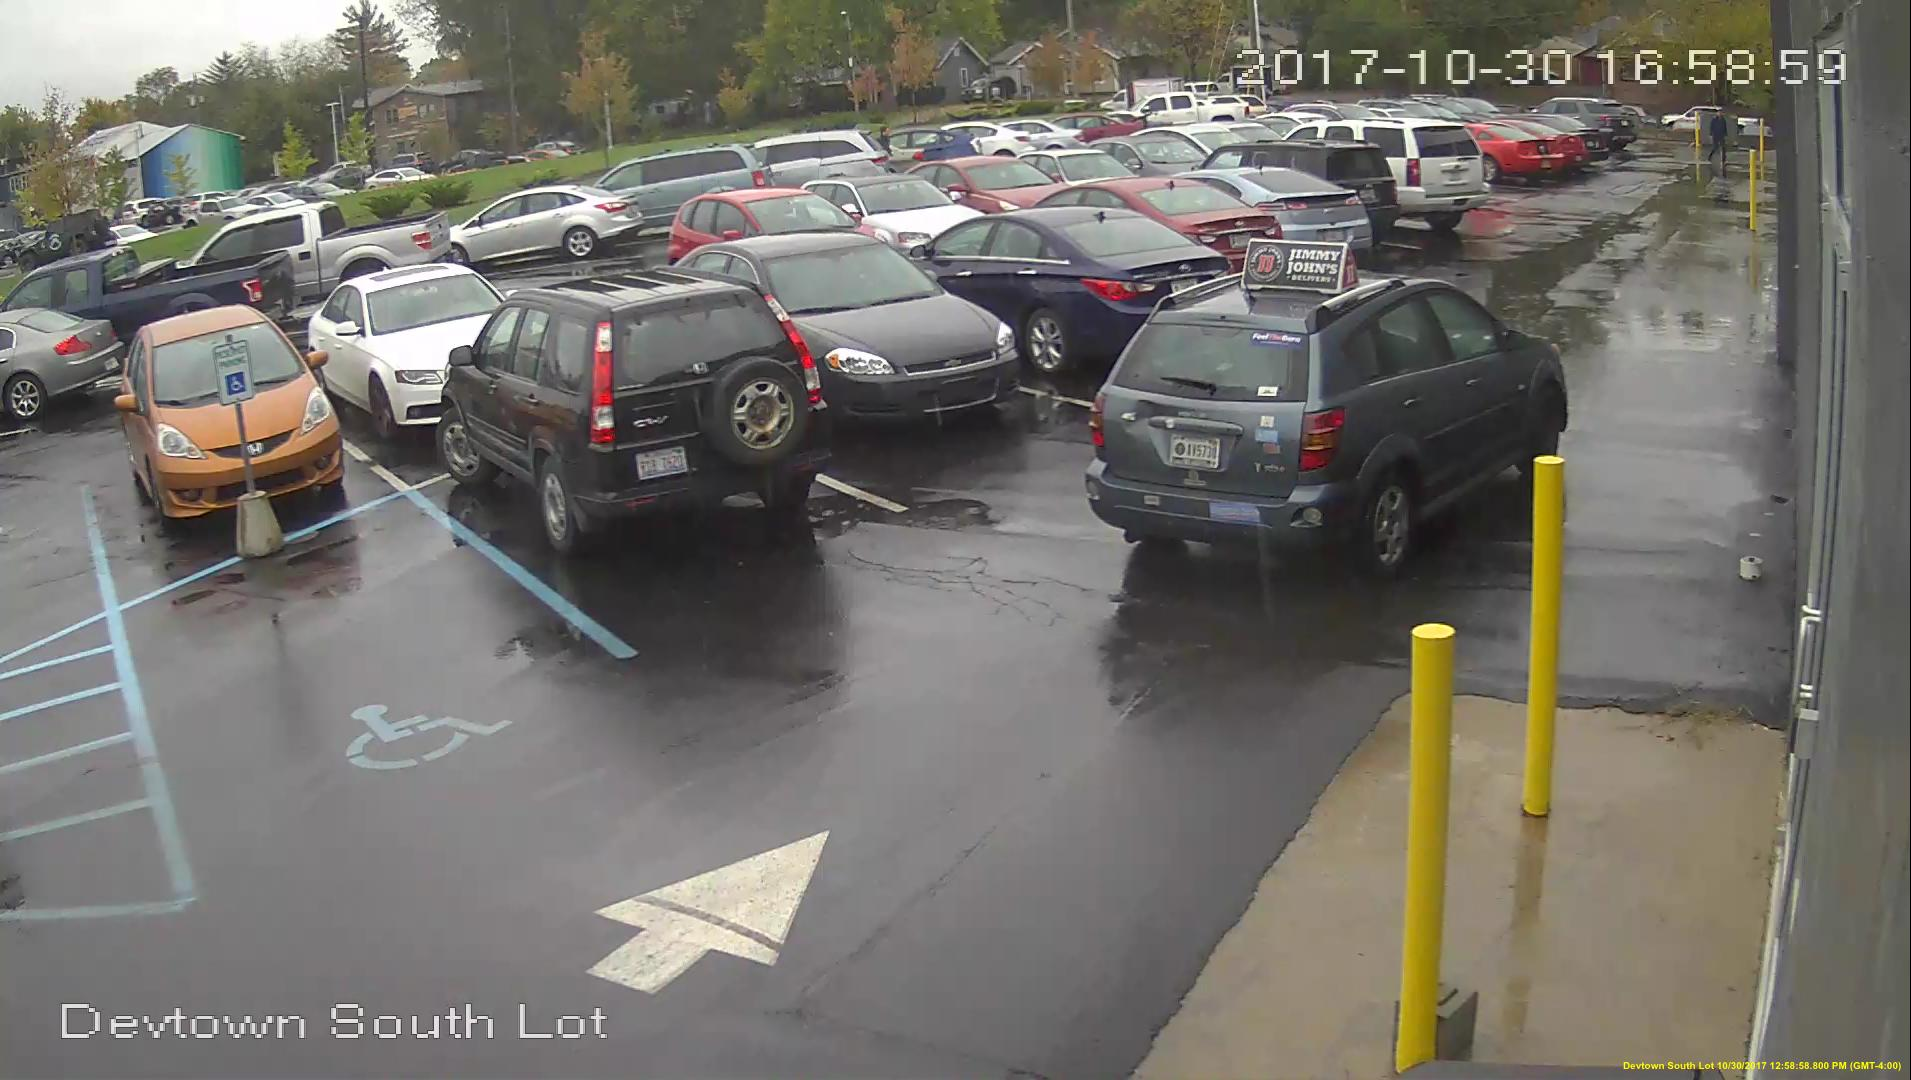jimmy_johns: (1238, 232, 1356, 297)
